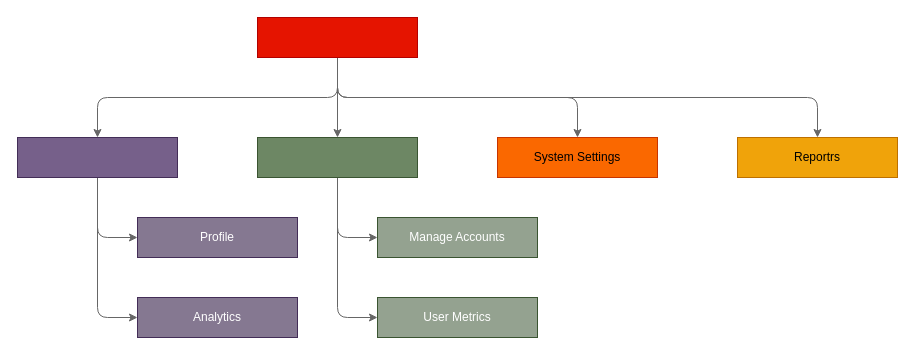
The diagram is 915 pixels wide and 355 high, and some of its shapes have lost their labels. The box of each missing label's shape, as (x1, y1, x2, y2) in pixels:
Administration: (256, 136, 418, 178)
Dashboard: (16, 136, 178, 178)
index: (256, 16, 418, 58)
